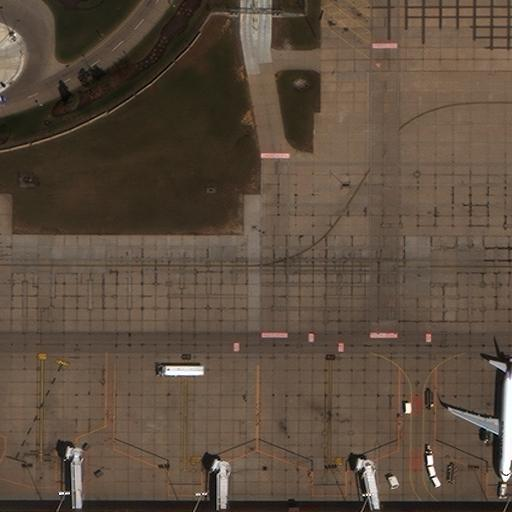Medium Civil Transport: (447, 357, 511, 482)
